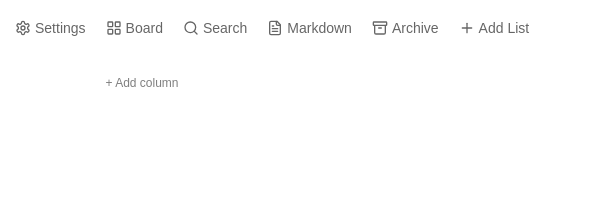
Test: Board — view switcher dropdown › closes dropdown after selecting a view
The image size is (593, 205).
// Open dropdown
Click the button with aria-label "Switch view" at (134, 28), box x1=98 y1=16 x2=171 y2=40
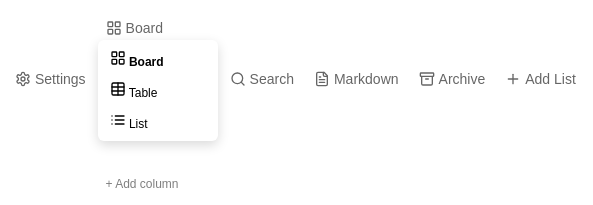
// Select Table
Click the button "Table" at (158, 90), box x1=98 y1=75 x2=218 y2=106
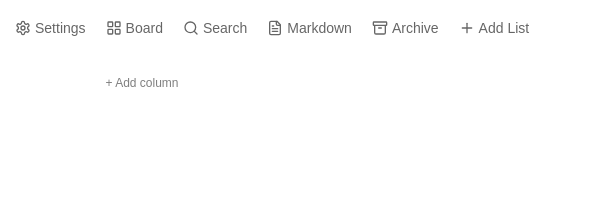
Check: no buttons are shown
